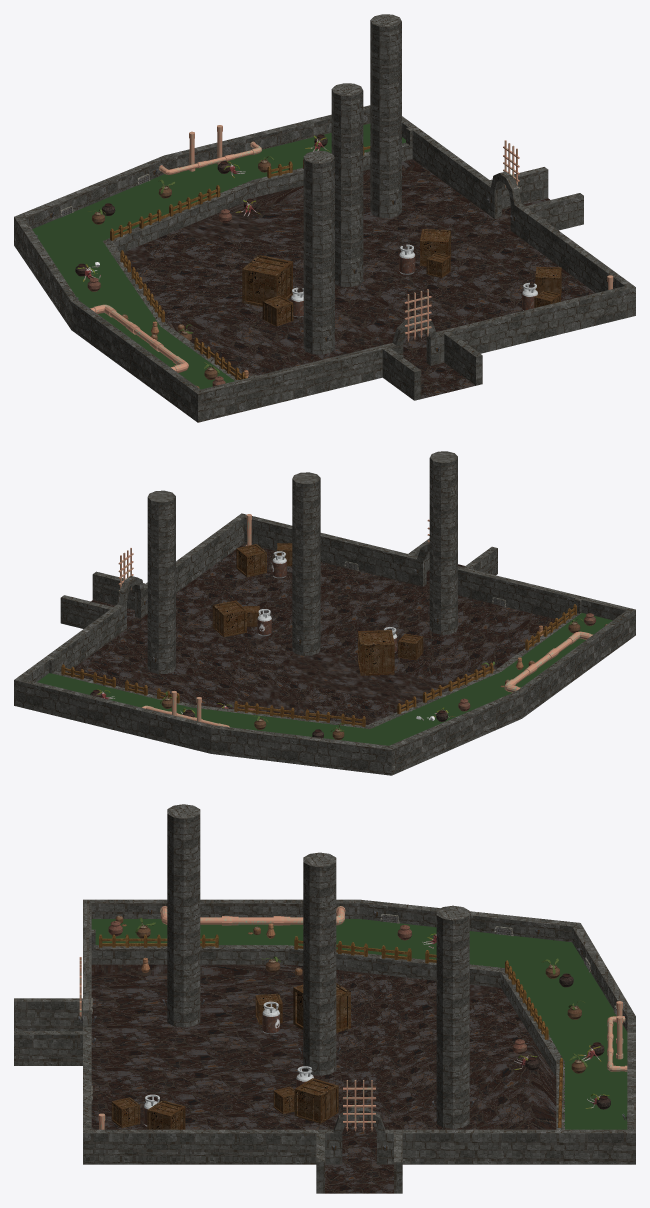
File: room_base_L_garden_40x40.glb
3 views of the same model, one above another, from view 1: azimuth 30°, elevation 25°; view 2: azimuth 150°, elevation 25°; view 3: azimuth 270°, elevation 25° (orthographic). The views are drawn at different scales.
Parts seen in each view (by area): view 1: Plane.003, floor, Cylinder.005, Cylinder.006, Cylinder.002, Cube.011, Cylinder.043, Cube.018_cell.004, Cube.018_cell, gate.001, Cylinder.044, Cube.010; view 2: Plane.003, floor, Cylinder.002, Cylinder.006, Cylinder.005, Cube.018_cell.002, Cube.011, Cylinder.043, Cube.010, Cube.012, Cube.009, Cube.015_cell.004; view 3: Plane.003, floor, Cylinder.006, Cylinder.005, Cylinder.002, Cylinder.043, Cube.010, Cube.009, gate.003, Cube.011, Cube.015_cell.002.
Boxes of the visible parts, x1=… form: Plane.003: x1=14, y1=105, x2=635, y2=422; floor: x1=124, y1=159, x2=595, y2=398; Cylinder.005: x1=370, y1=14, x2=401, y2=217; Cylinder.006: x1=303, y1=151, x2=334, y2=354; Cylinder.002: x1=331, y1=83, x2=363, y2=286; Cube.011: x1=110, y1=185, x2=220, y2=240; Cylinder.043: x1=90, y1=304, x2=188, y2=372; Cube.018_cell.004: x1=259, y1=266, x2=285, y2=306; Cube.018_cell: x1=242, y1=266, x2=264, y2=306; gate.001: x1=404, y1=289, x2=431, y2=341; Cylinder.044: x1=159, y1=141, x2=261, y2=174; Cube.010: x1=120, y1=250, x2=164, y2=322; Plane.003: x1=14, y1=513, x2=635, y2=775; floor: x1=68, y1=543, x2=561, y2=724; Cylinder.002: x1=292, y1=472, x2=320, y2=655; Cylinder.006: x1=429, y1=451, x2=457, y2=634; Cylinder.005: x1=147, y1=490, x2=175, y2=674; Cube.018_cell.002: x1=360, y1=637, x2=387, y2=675; Cube.011: x1=234, y1=701, x2=365, y2=727; Cylinder.043: x1=504, y1=631, x2=592, y2=692; Cube.010: x1=397, y1=662, x2=493, y2=714; Cube.012: x1=61, y1=664, x2=179, y2=703; Cube.009: x1=525, y1=604, x2=576, y2=650; Cube.015_cell.004: x1=219, y1=605, x2=246, y2=626; Plane.003: x1=14, y1=899, x2=635, y2=1193; floor: x1=91, y1=964, x2=556, y2=1193; Cylinder.006: x1=167, y1=804, x2=200, y2=1027; Cylinder.005: x1=436, y1=905, x2=469, y2=1128; Cylinder.002: x1=303, y1=852, x2=336, y2=1075; Cylinder.043: x1=160, y1=906, x2=345, y2=925; Cube.010: x1=294, y1=936, x2=436, y2=963; Cube.009: x1=99, y1=934, x2=218, y2=947; gate.003: x1=343, y1=1080, x2=375, y2=1131; Cube.011: x1=505, y1=960, x2=548, y2=1039; Cube.015_cell.002: x1=294, y1=1084, x2=324, y2=1111.
Bounding box in the file's own units: 36 × 13.47 × 36.
18 materials, 18 textured.
